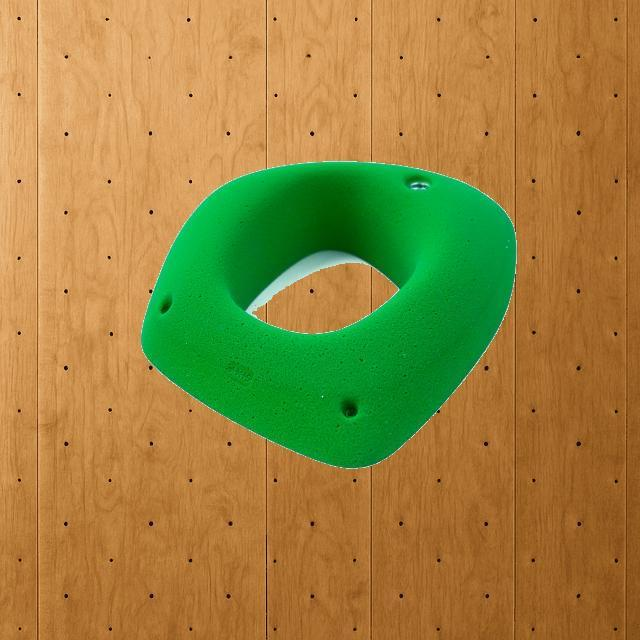Pocket: (139, 160, 516, 470)
